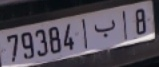3: (35, 29, 49, 57)
4: (62, 23, 75, 50)
7: (6, 34, 18, 63)
8: (49, 26, 61, 53), (135, 8, 147, 35)
9: (21, 31, 34, 59)
b: (93, 18, 116, 38)
